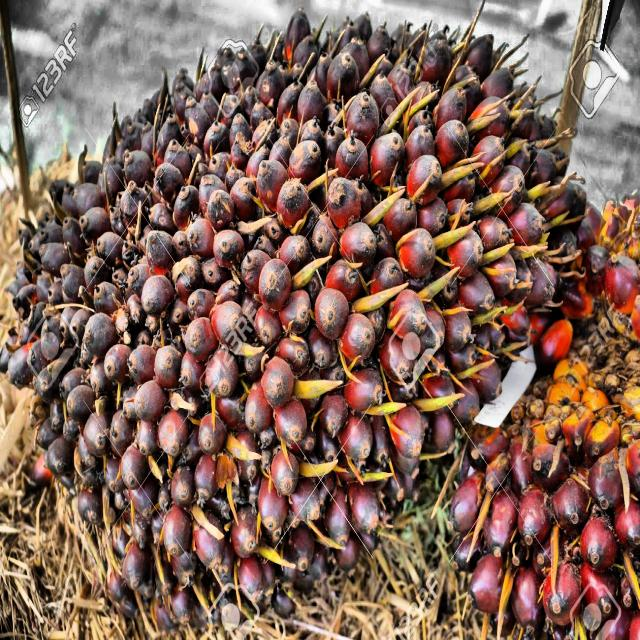FFB: (24, 32, 610, 628)
